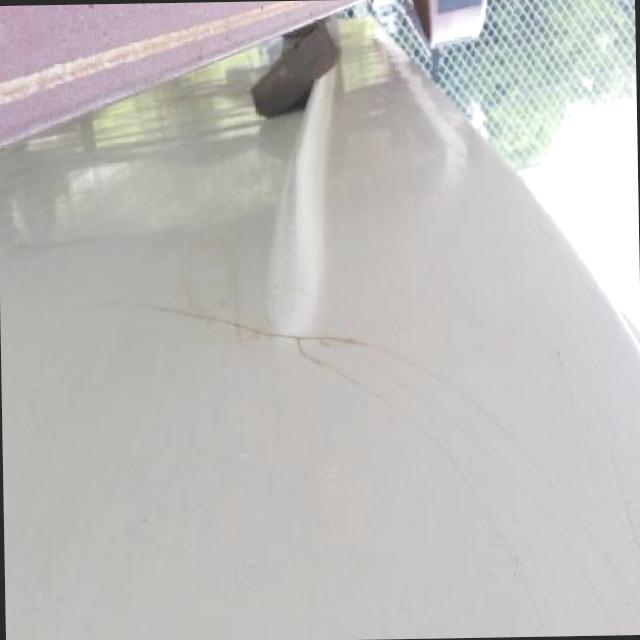crack: (86, 298, 640, 615), (317, 339, 622, 635), (294, 336, 550, 636)
dent: (602, 432, 640, 562)
